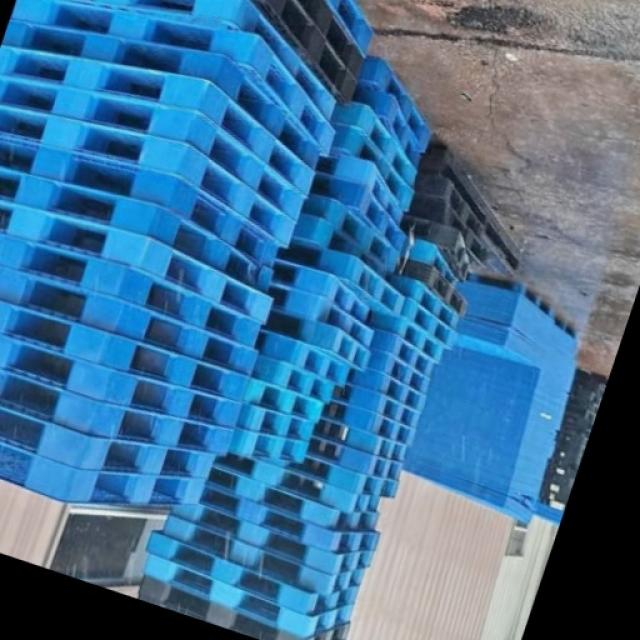non-igps: (5, 0, 342, 167), (0, 34, 323, 208), (0, 10, 327, 180), (0, 66, 312, 228), (0, 93, 303, 257), (0, 129, 284, 275), (0, 156, 282, 302), (0, 189, 278, 332), (59, 0, 341, 131), (0, 223, 269, 357), (0, 252, 262, 385), (0, 288, 257, 409), (0, 321, 248, 437), (0, 356, 244, 464), (141, 522, 364, 622), (137, 543, 360, 640), (0, 392, 220, 488), (155, 502, 369, 600), (164, 488, 378, 582), (180, 468, 383, 561), (0, 428, 201, 517), (414, 133, 528, 288), (132, 567, 353, 640), (198, 456, 383, 536), (242, 0, 362, 111), (208, 445, 384, 520), (276, 446, 404, 502), (285, 0, 367, 87), (394, 206, 477, 289), (362, 296, 448, 372), (315, 392, 420, 452), (381, 264, 465, 336), (327, 373, 423, 435), (306, 412, 409, 469), (390, 252, 472, 323), (359, 316, 439, 388), (302, 431, 406, 485), (342, 361, 430, 420), (394, 232, 463, 298), (360, 342, 434, 401), (396, 292, 462, 355), (320, 0, 378, 64)
